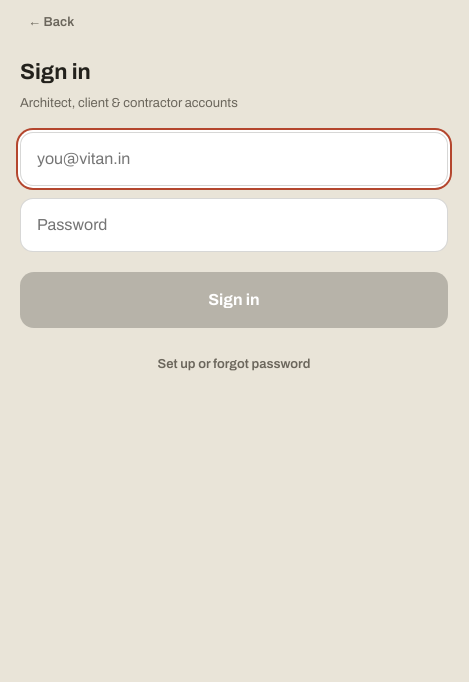
Test: TeamAccessScreen password enrollment › offers password setup/recovery from the primary email/password login
Click the button "Set up or forgot password" at coordinates (234, 364), box left=146, top=342, right=322, bottom=386
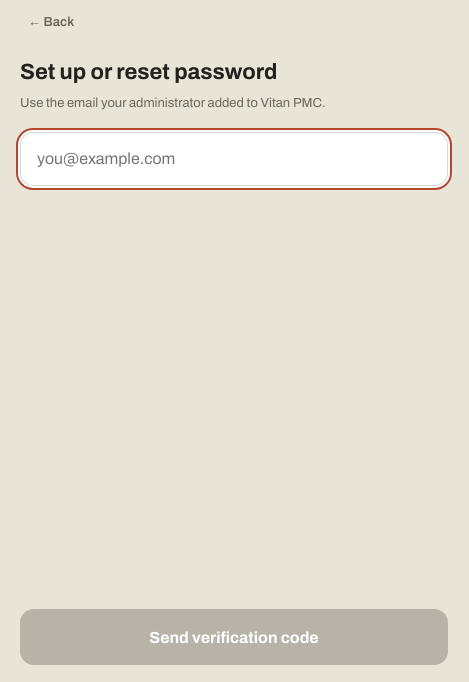
Result: the heading "Set up or reset password" is shown at left=20, top=60, right=277, bottom=84
